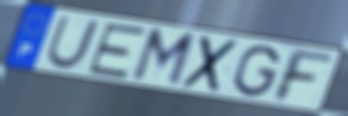E: (84, 22, 150, 81)
F: (272, 46, 336, 105)
G: (231, 44, 282, 98)
M: (127, 27, 199, 90)
U: (43, 15, 103, 71)
X: (178, 34, 242, 95)
